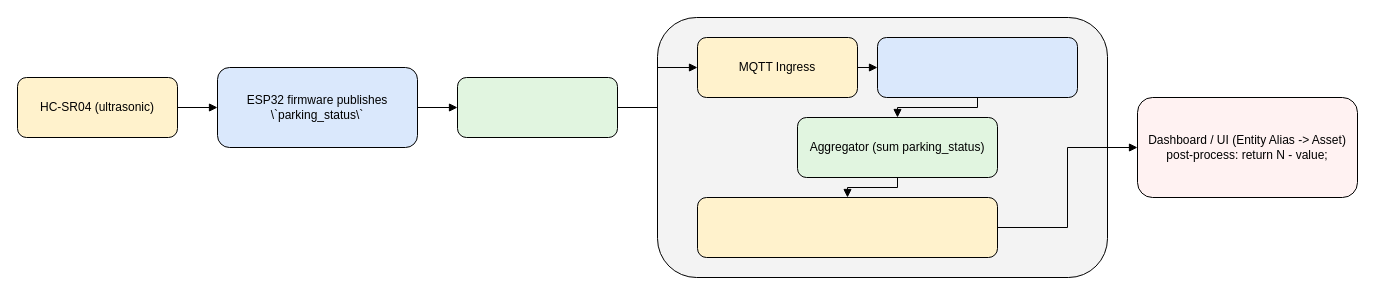
The diagram is 1375 pixels wide and 295 high, and some of its shapes have lost their labels. The centre of each missing label's shape, as x and y in pixels:
"Asset: ParkingLot_A telemetry: \`total_occupied\`" belongs at [847,227].
"MQTT / TLS (port 8883)" belongs at [537,107].
"Rule Chains (store TS, change origin -> Asset)" belongs at [977,67].
